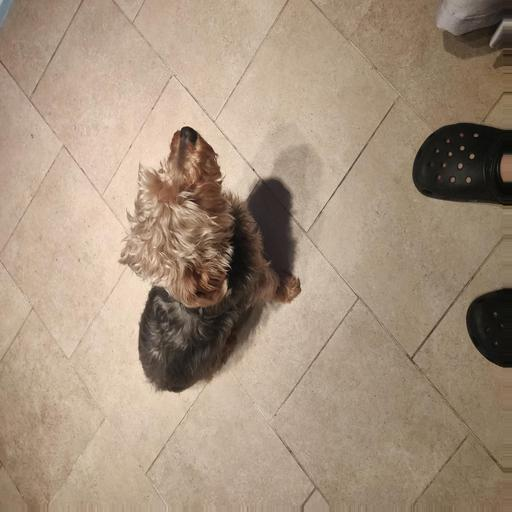dog: (124, 128, 304, 308)
